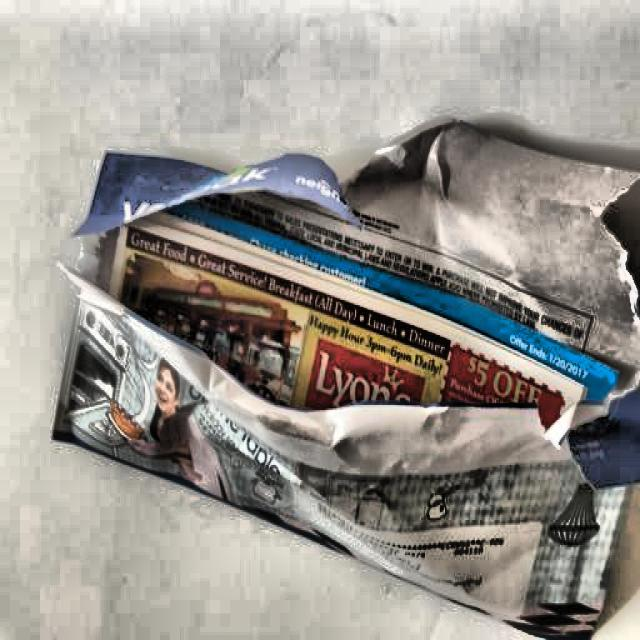paper: (77, 117, 640, 628)
